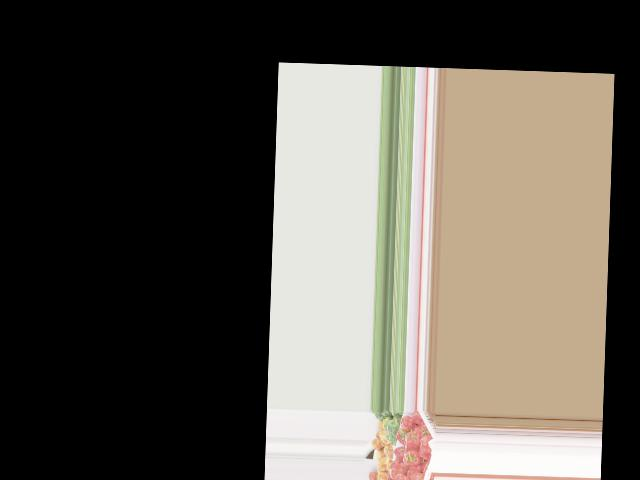bell_pepper: (418, 434, 433, 460)
